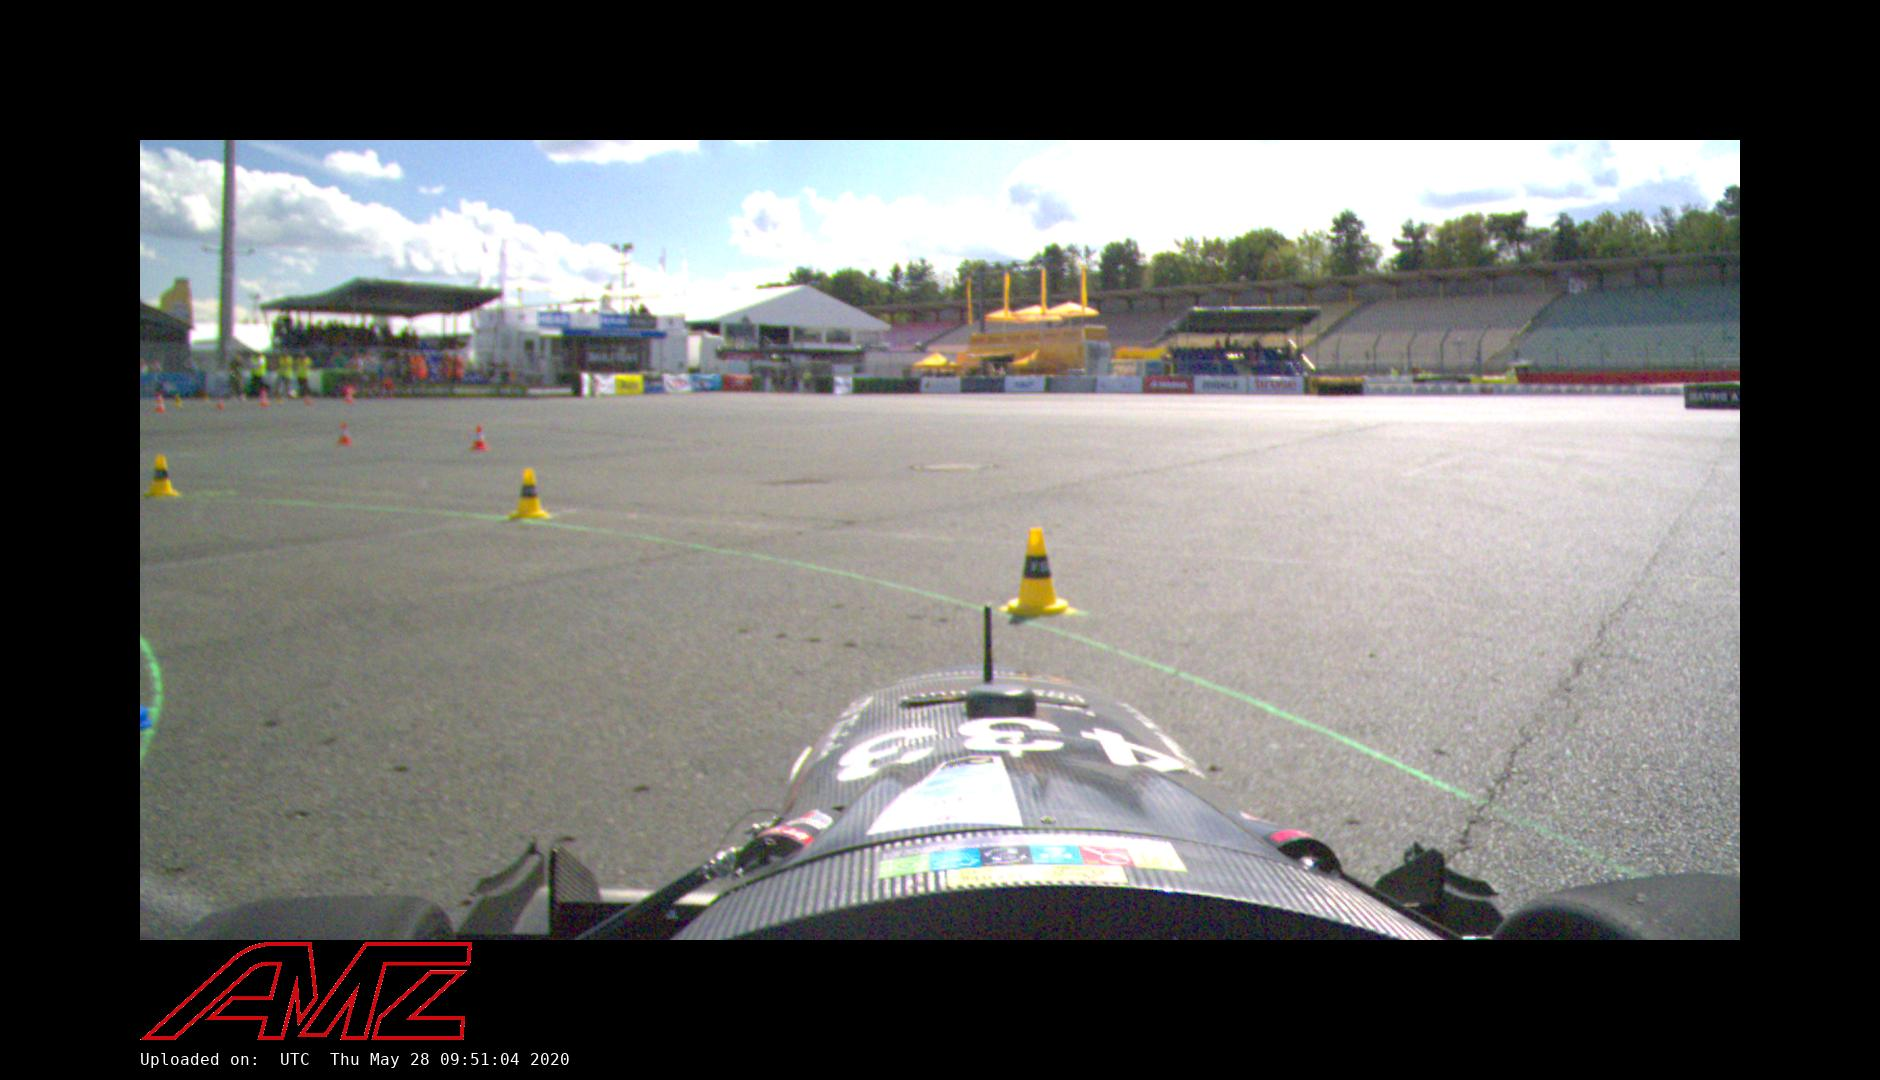orange_cone: (467, 425, 489, 451), (334, 422, 352, 444)
yellow_cone: (1003, 527, 1076, 614), (507, 468, 549, 518), (143, 452, 179, 496)
